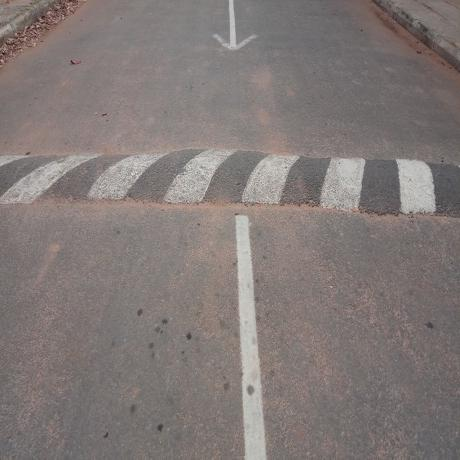Speed Bump: (1, 146, 460, 221)
